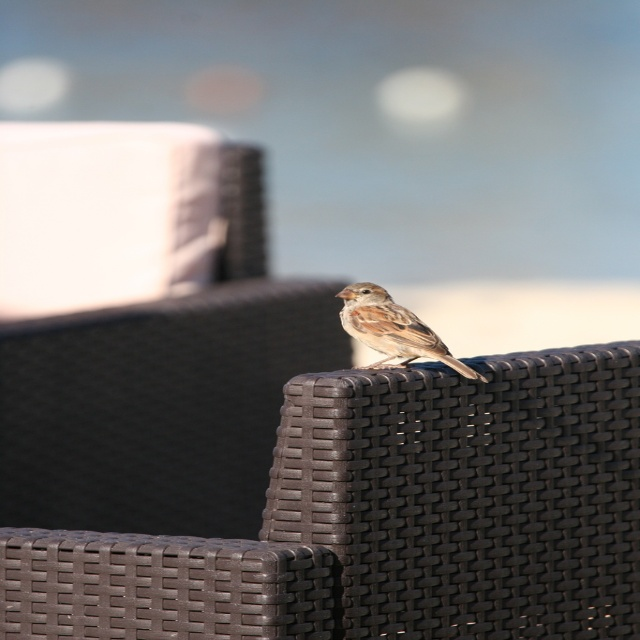Sparrow: (329, 279, 491, 384)
